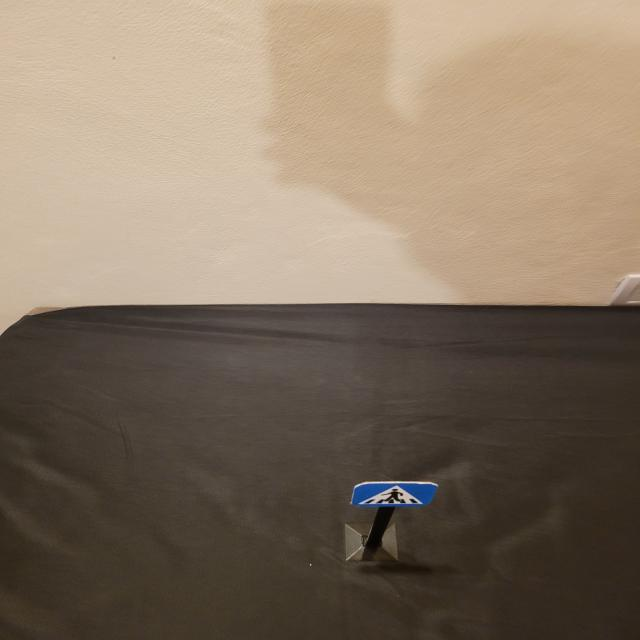crosswalk: (350, 479, 439, 512)
